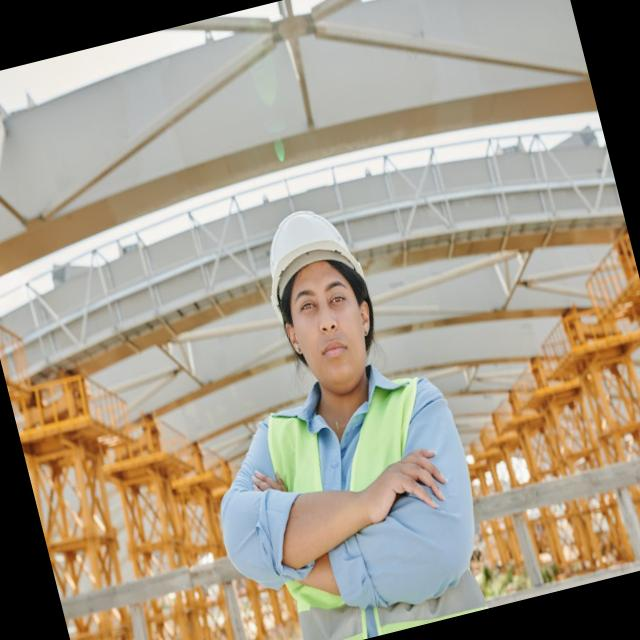helmet: (246, 195, 375, 328)
no-goggles: (263, 260, 376, 350)
vest: (238, 360, 489, 640)
